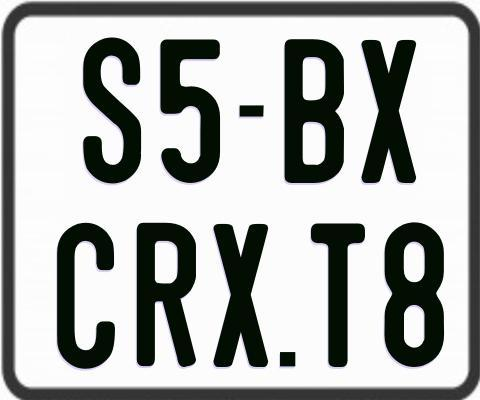5: (160, 36, 224, 182)
8: (383, 221, 443, 370)
B: (283, 37, 344, 181)
C: (54, 221, 112, 373)
R: (135, 220, 197, 369)
S: (82, 37, 145, 184)
T: (310, 223, 367, 371)
X: (359, 37, 419, 180), (212, 224, 269, 368)
